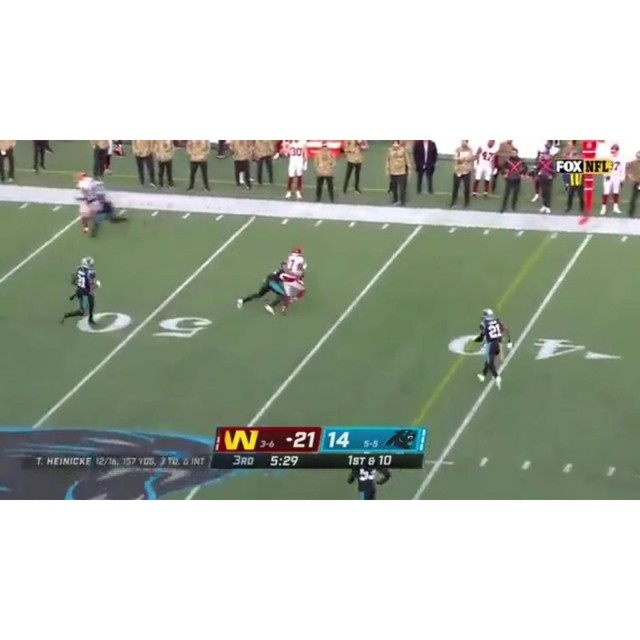american-football-player: (472, 309, 507, 390), (238, 262, 290, 315), (61, 257, 99, 328), (73, 173, 100, 237), (281, 247, 308, 307)
